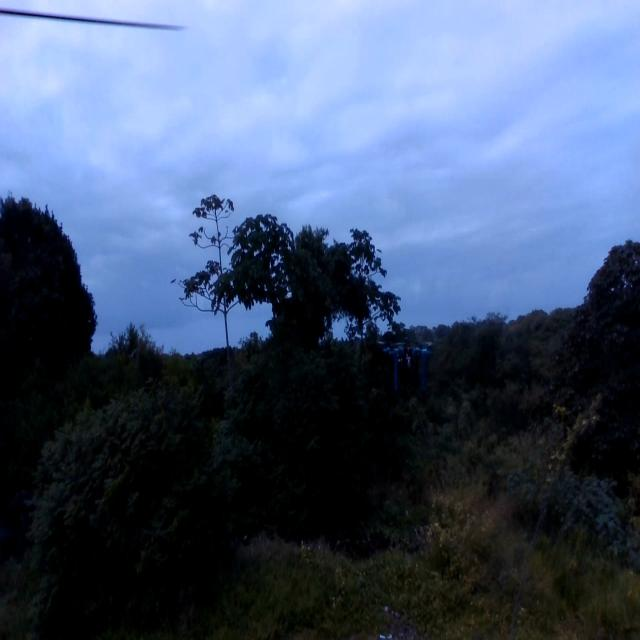-uav-: (372, 320, 444, 406)
